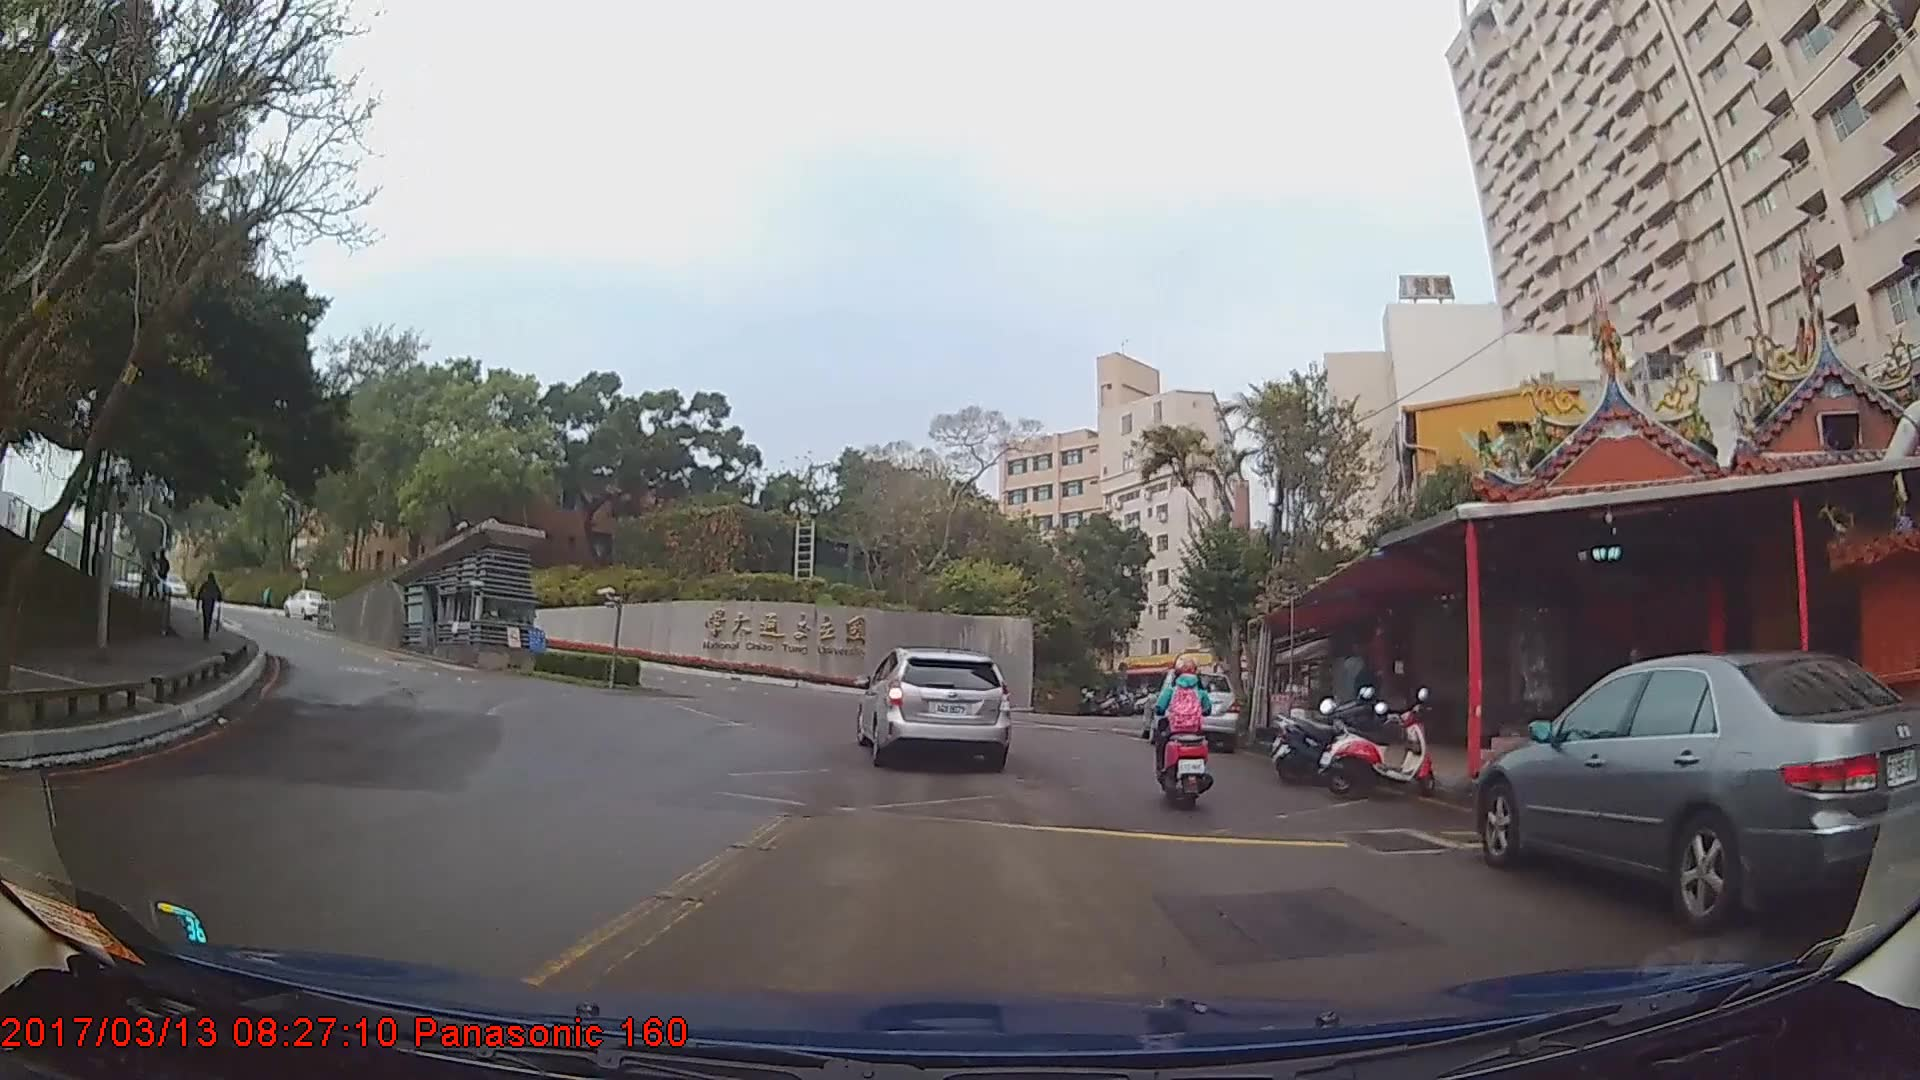pedestrian: (1352, 652, 1388, 748), (196, 574, 224, 644), (144, 547, 164, 607), (155, 547, 175, 603)
rider: (1148, 651, 1222, 811)
vehicle: (1480, 648, 1920, 936), (854, 643, 1008, 768), (1140, 664, 1238, 747), (284, 589, 332, 619)
